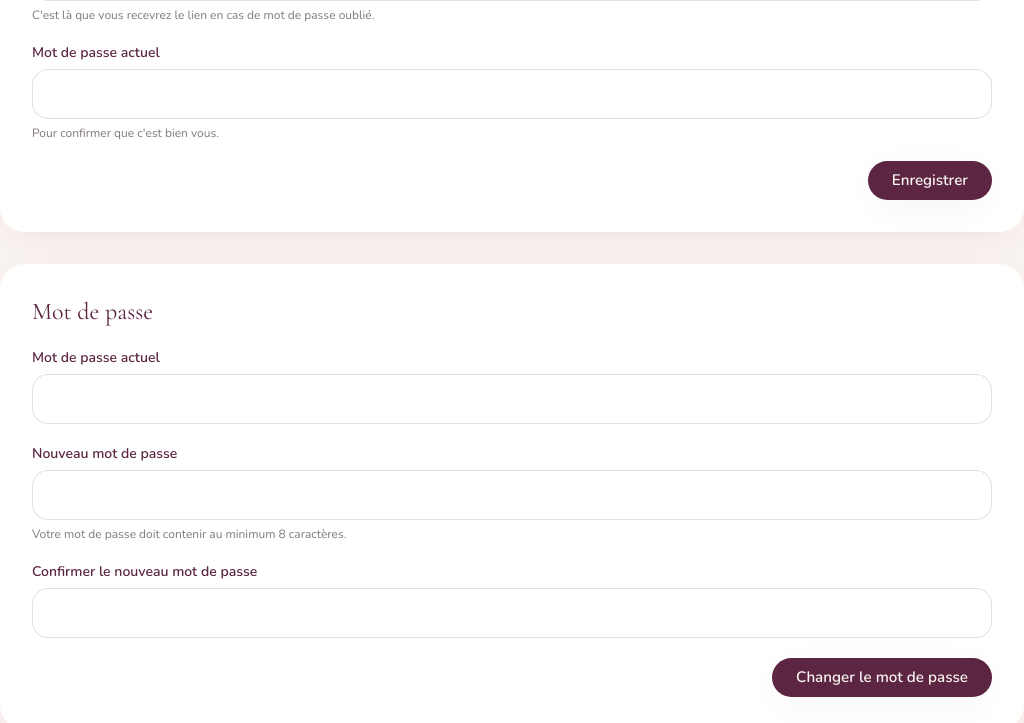
Test: Mon compte › changes the password and clears the fields
(page scrolled)
Type "ancien" into the 2nd password field labelled "Mot de passe actuel" at x=512, y=399, box 32,374 -> 992,424
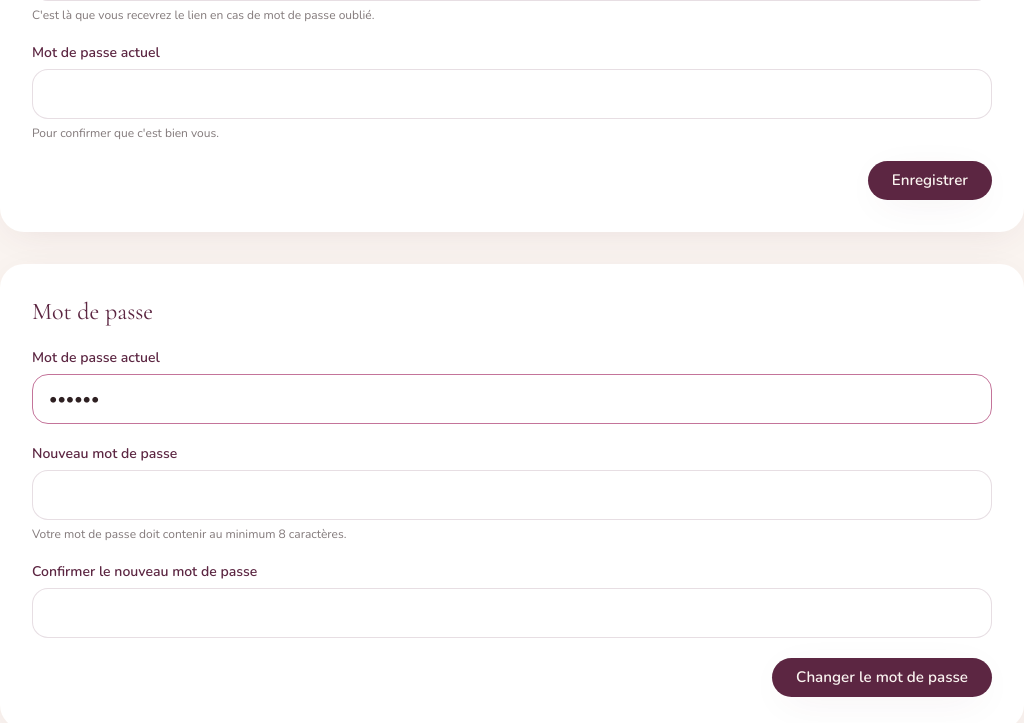
Type "nouveau-2027" into the password field labelled "Nouveau mot de passe" at x=512, y=495, box 32,470 -> 992,520
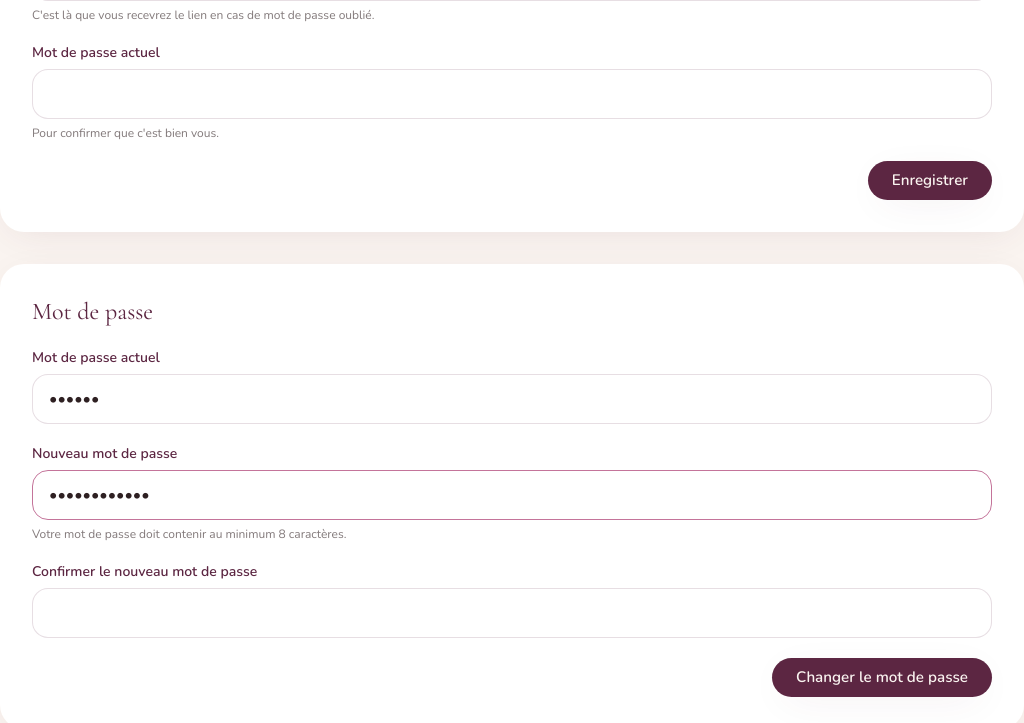
Type "nouveau-2027" into the password field labelled "Confirmer le nouveau mot de passe" at x=512, y=613, box 32,588 -> 992,638
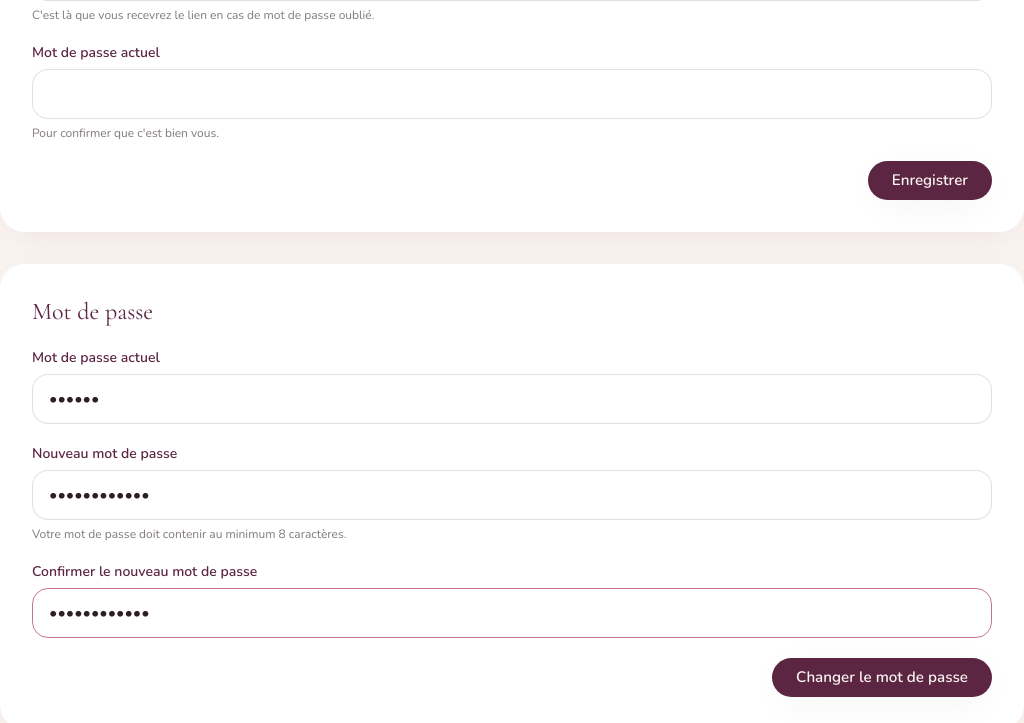
Click the button "Changer le mot de passe" at x=882, y=678, box 772,658 -> 992,697
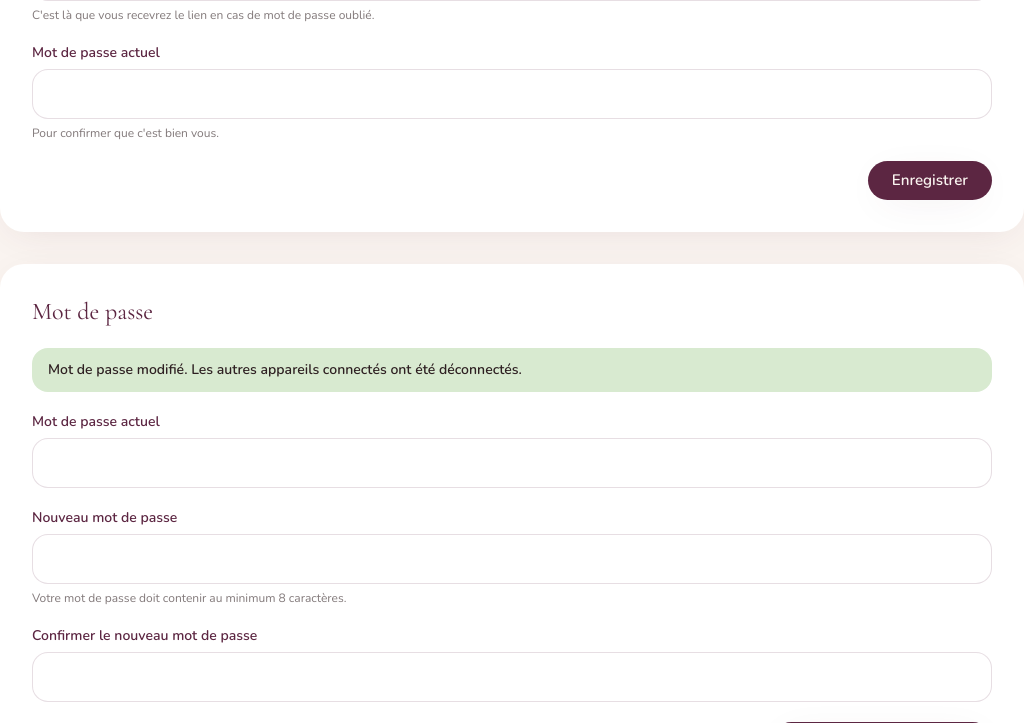
Expected: the text "Mot de passe modifié. Les autres appareils connectés ont été déconnectés." is shown, 32,348 -> 992,392
Expected: the password field labelled "Nouveau mot de passe" is empty, 32,534 -> 992,584
